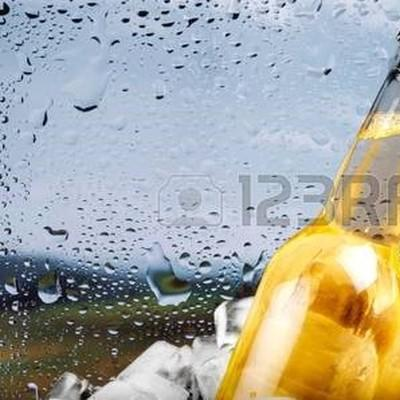beer: (213, 28, 399, 400)
